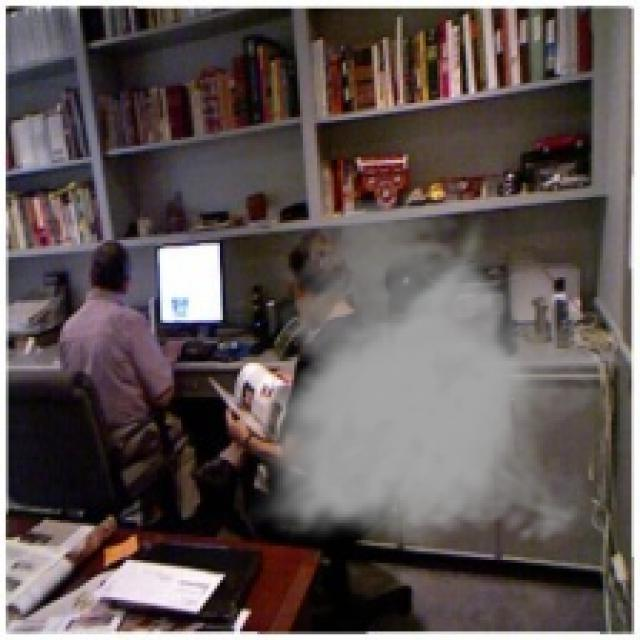Smoke: (248, 195, 620, 554)
